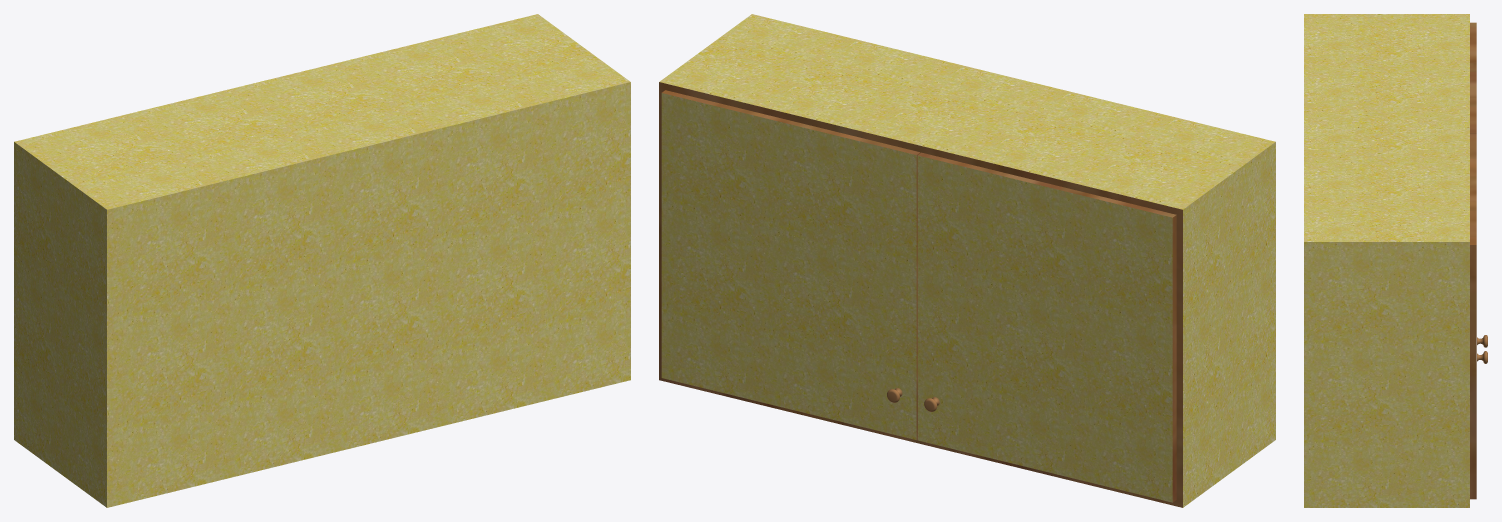
File: cupboard.fbx
The picture shows the model from 3 angles, left to right: view 1: azimuth 30°, elevation 25°; view 2: azimuth 150°, elevation 25°; view 3: azimuth 270°, elevation 25°; orthographic projection. The views are drawn at different scales.
Parts seen in each view (by area): view 1: SketchUp2; view 2: SketchUp2; view 3: SketchUp2.
Boxes of the visible parts, x1,y1,x2,y2 form: SketchUp2: (14, 14, 630, 507); SketchUp2: (659, 14, 1275, 507); SketchUp2: (1304, 14, 1487, 507).
Bounding box in the file's own units: 125 × 68 × 42.58.
Materials: 3 (3 with a texture image).
